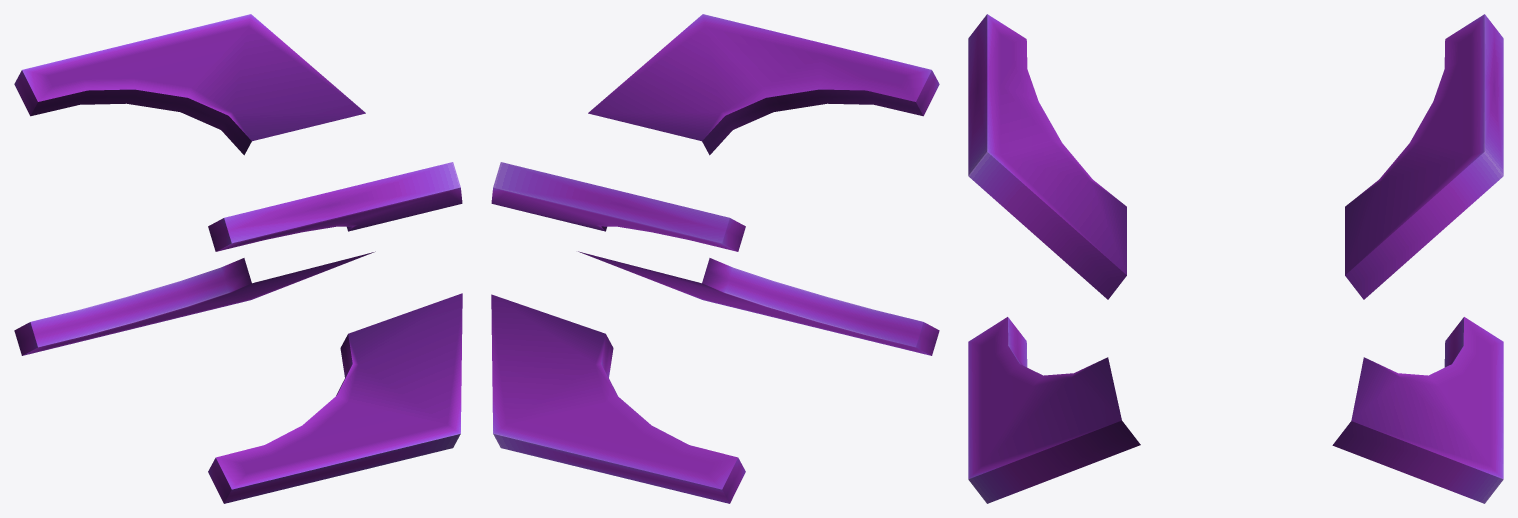
The model's file is NewYears01_Power2.glb.
3 renders of one model, left to right at view 1: azimuth 30°, elevation 25°; view 2: azimuth 150°, elevation 25°; view 3: azimuth 270°, elevation 25°, orthographic. The views are drawn at different scales.
Visible parts, largest first — view 1: NewYears01_Power2; view 2: NewYears01_Power2; view 3: NewYears01_Power2.
Part boxes in pixels (bbox=[...]): NewYears01_Power2: bbox=[14, 14, 462, 503]; NewYears01_Power2: bbox=[491, 14, 939, 503]; NewYears01_Power2: bbox=[968, 14, 1503, 503].
Bounding box in the file's own units: 3.82 × 3.56 × 4.9.
Materials: 1 (1 with a texture image).
